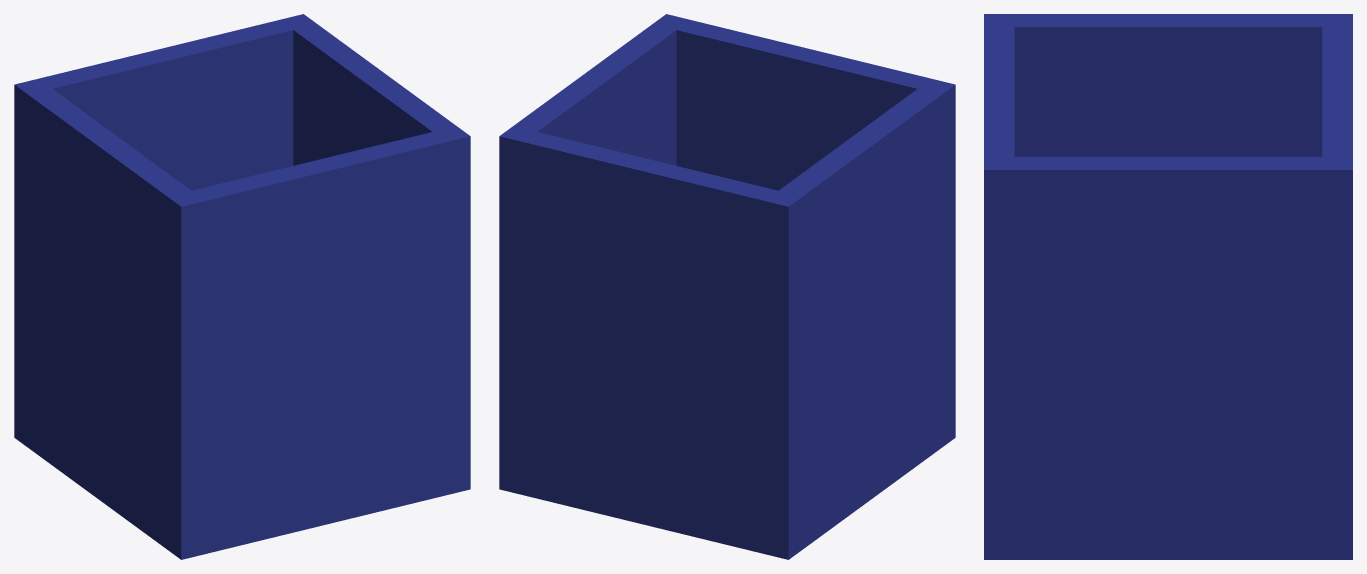
Rendered from cap blue  hollow v1.fbx.
The picture shows the model from 3 angles, left to right: view 1: azimuth 30°, elevation 25°; view 2: azimuth 150°, elevation 25°; view 3: azimuth 270°, elevation 25°; orthographic projection. The views are drawn at different scales.
Visible parts, largest first — view 1: Body1; view 2: Body1; view 3: Body1.
Part boxes in pixels (left/top/right/bottom): Body1: left=14, top=14, right=470, bottom=559; Body1: left=499, top=14, right=955, bottom=559; Body1: left=984, top=14, right=1352, bottom=559.
Bounding box in the file's own units: 3 × 3.5 × 3.
